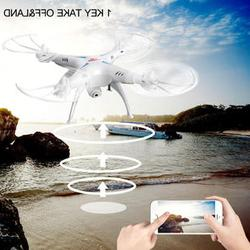drone: (5, 29, 199, 124)
